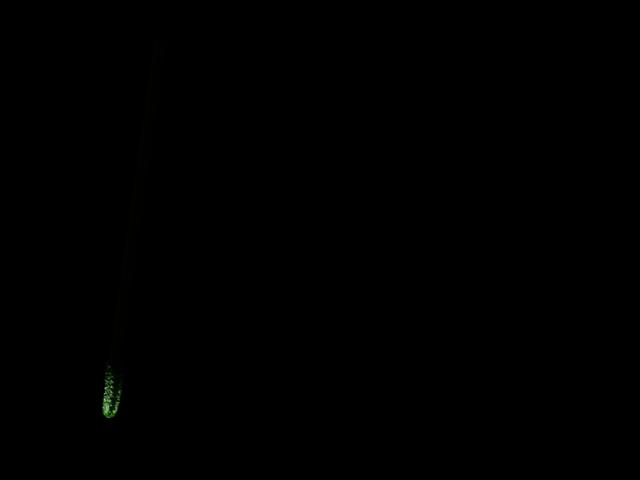cucumber: (97, 357, 125, 419)
